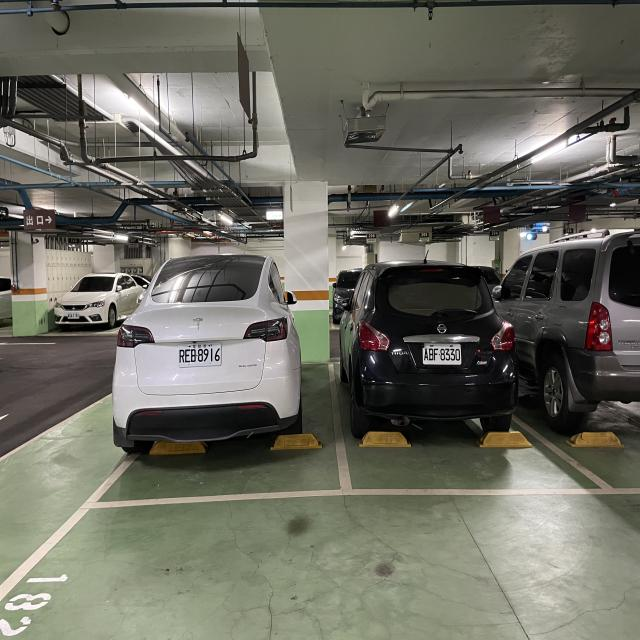license-plate: (178, 342, 222, 368), (422, 343, 461, 365), (67, 312, 79, 319)
